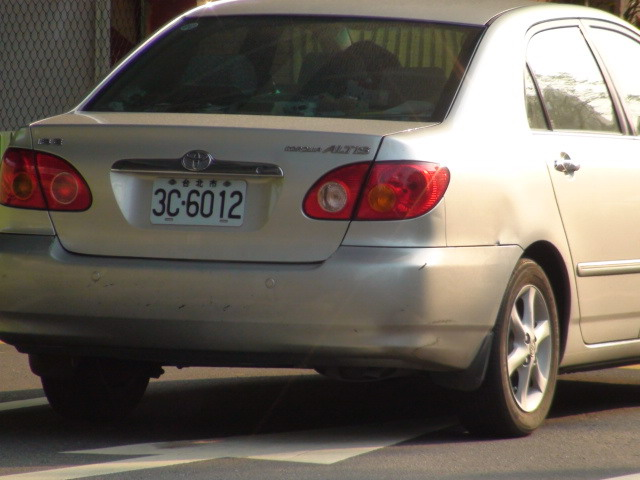plate: (149, 174, 249, 228)
